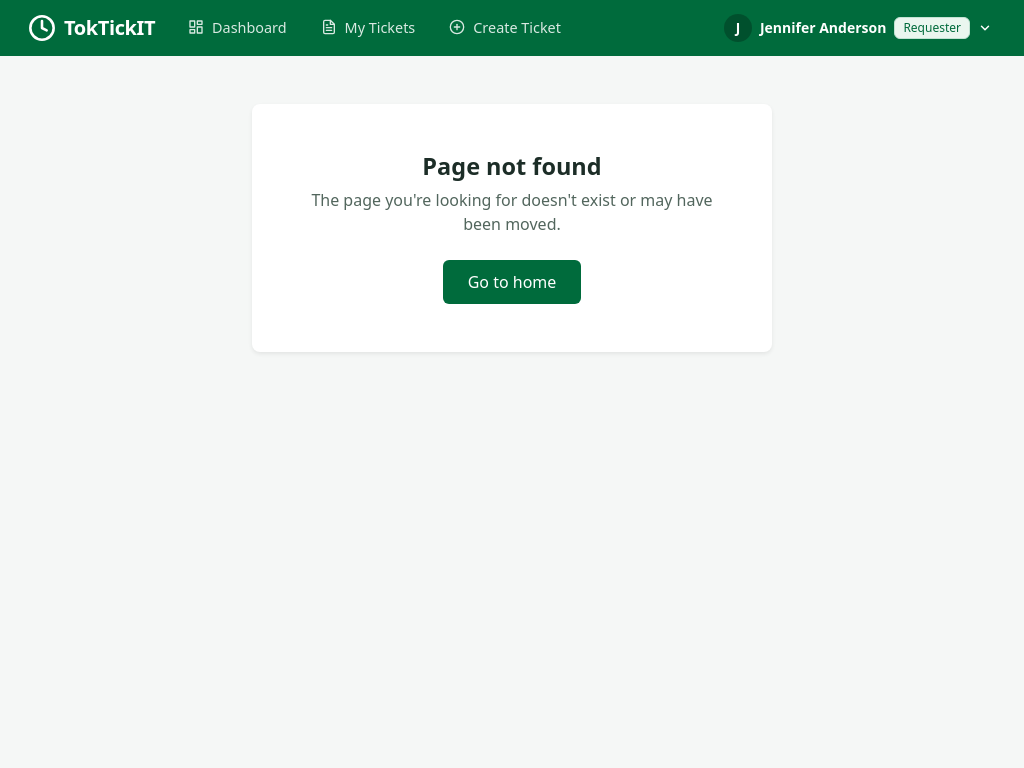
Lab 4 Unknown Route Fallback (Issue #58) › shows Page not found for an unknown URL and Go to home returns to the role's home view
expect the heading "Page not found" is shown: met, box [422,150,602,182]
Click the button "Go to home". click: (512, 282)
box: [443,260,581,304]
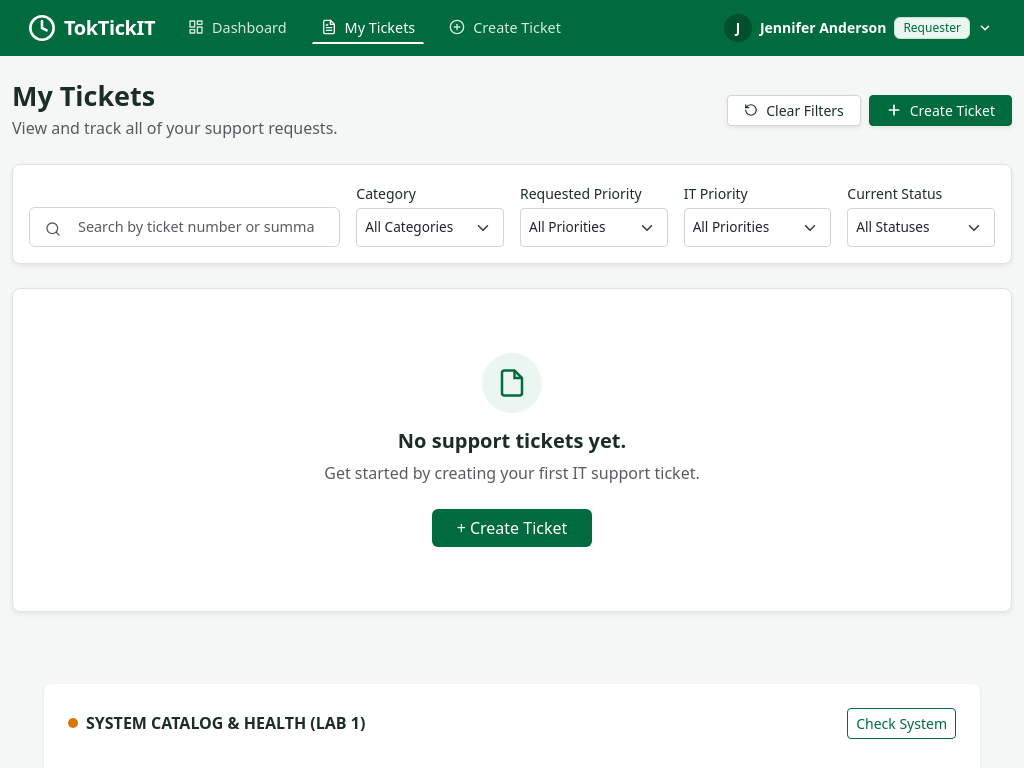
expect the heading "My Tickets" is shown: met, box [12,77,155,114]
